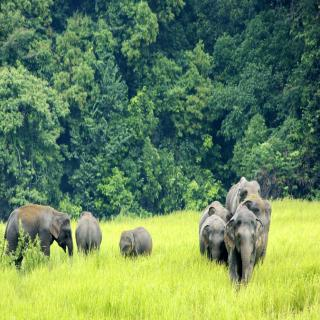Elephant: (4, 202, 76, 265), (224, 206, 266, 291), (199, 209, 228, 266), (74, 208, 106, 254), (119, 224, 155, 260)
